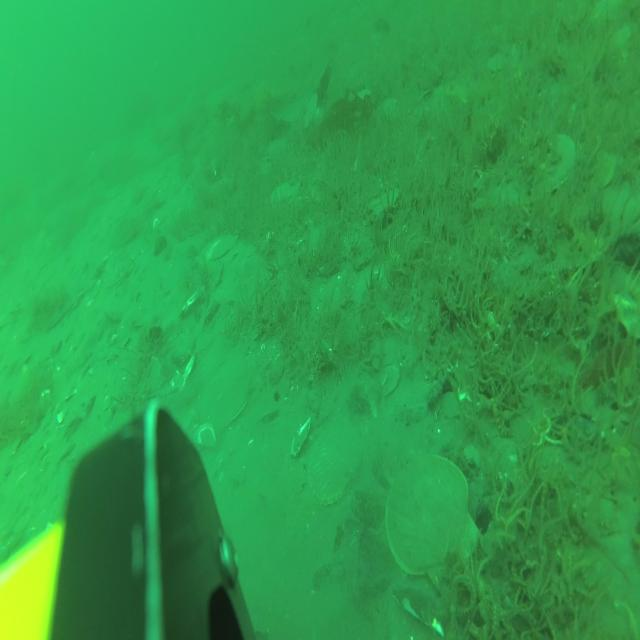scallop: (385, 459, 483, 595), (196, 352, 252, 430), (310, 420, 360, 506), (538, 135, 576, 195), (204, 233, 239, 260), (106, 261, 133, 292), (271, 182, 300, 206)
